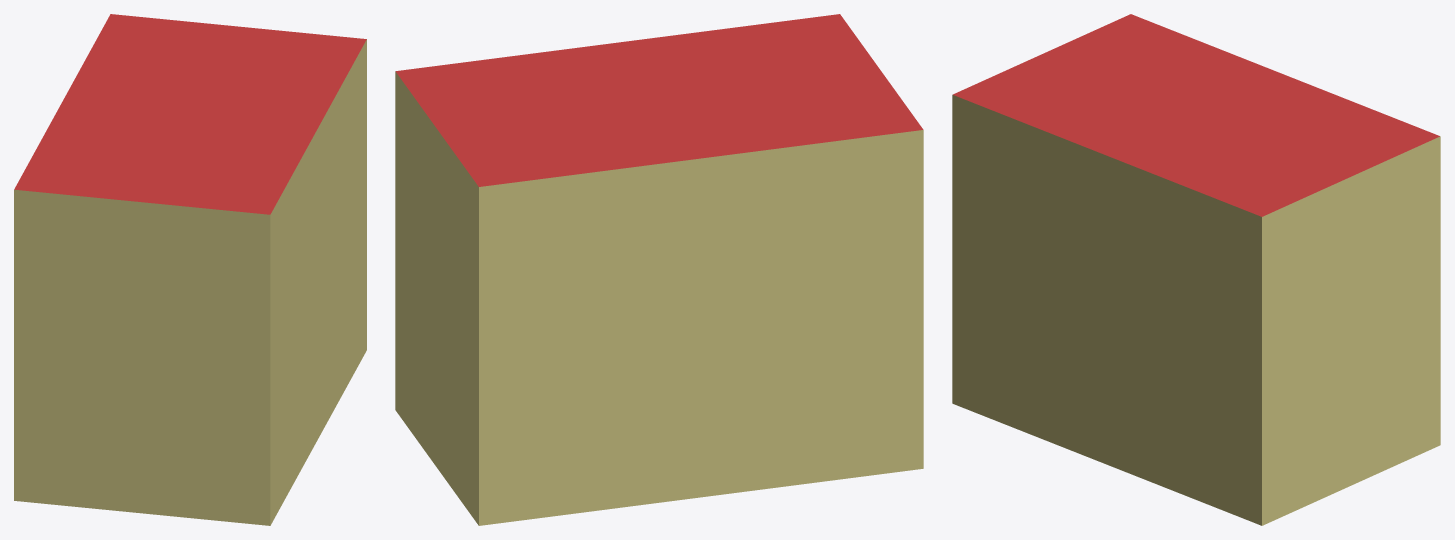
3 views of the same model, side by side, from view 1: azimuth 30°, elevation 25°; view 2: azimuth 150°, elevation 25°; view 3: azimuth 270°, elevation 25° (orthographic). The views are drawn at different scales.
Size of the model in its own units: 8.54 by 8.68 by 6.06.
